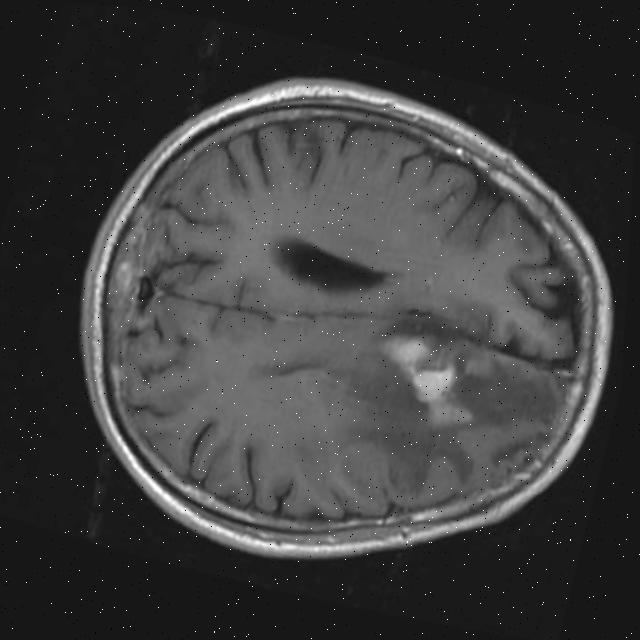Glioma: (401, 355, 490, 436), (375, 325, 432, 373)
